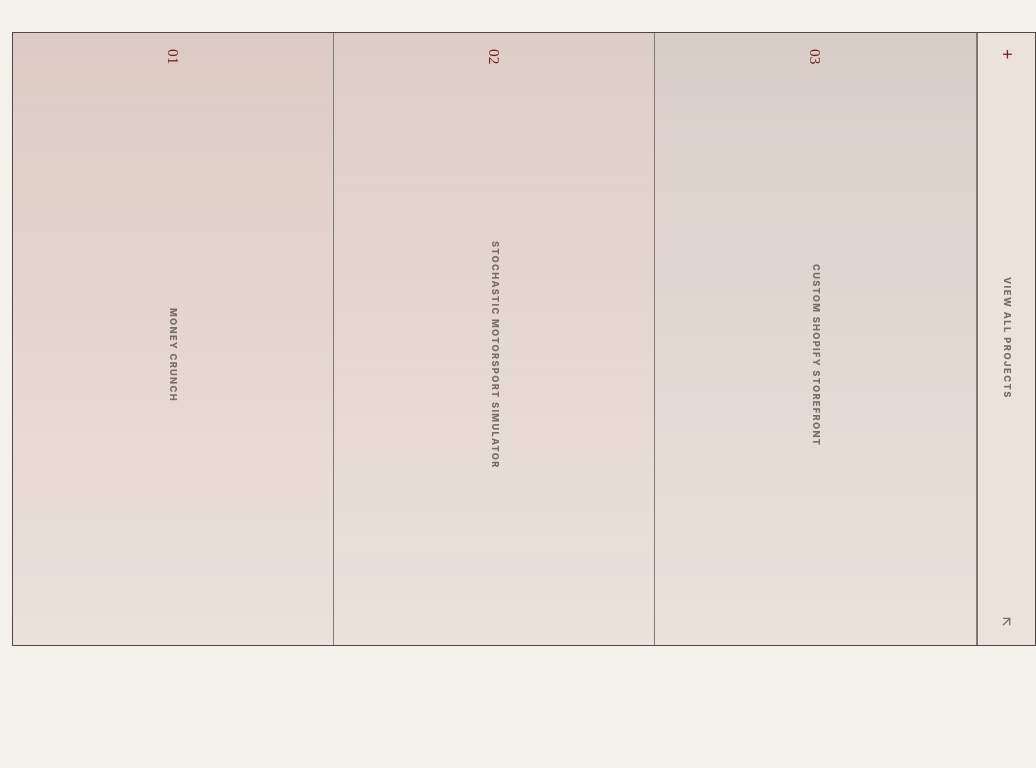
Test: ProjectSpineGallery › opens a mobile-layout desktop expanded panel with a phone frame
The width and height of the screenshot is (1036, 768).
Hover over the element "01 Money Crunch": (174,339) [13, 33, 334, 645]
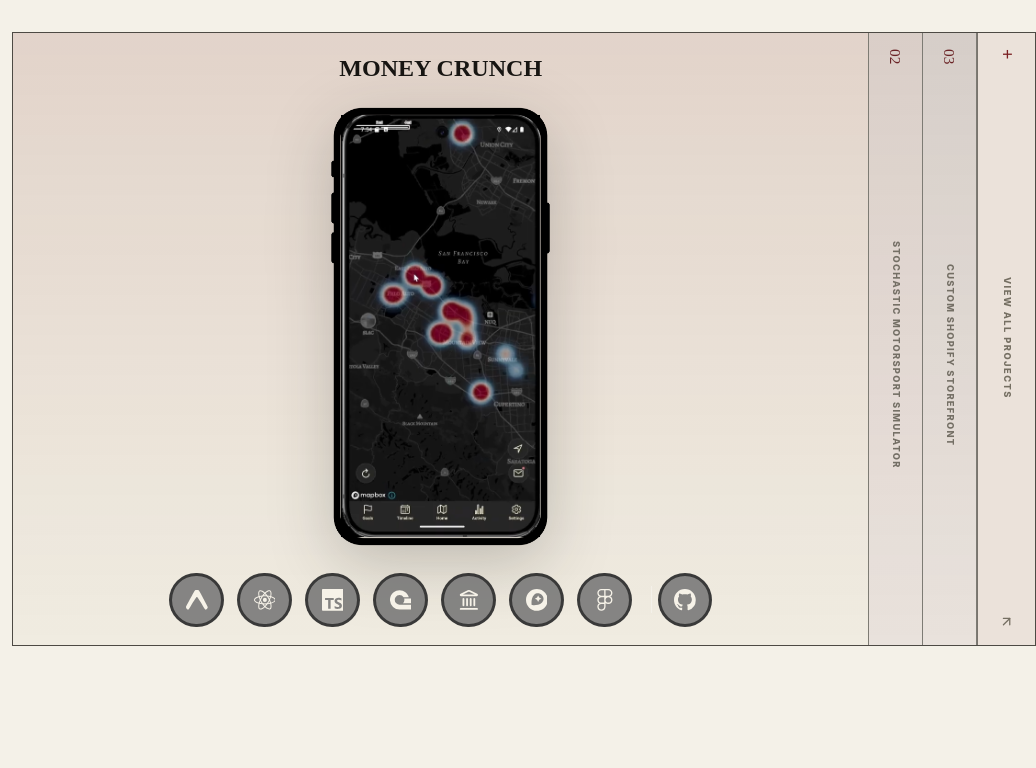
Expected: the list is shown, [169, 573, 712, 627]
